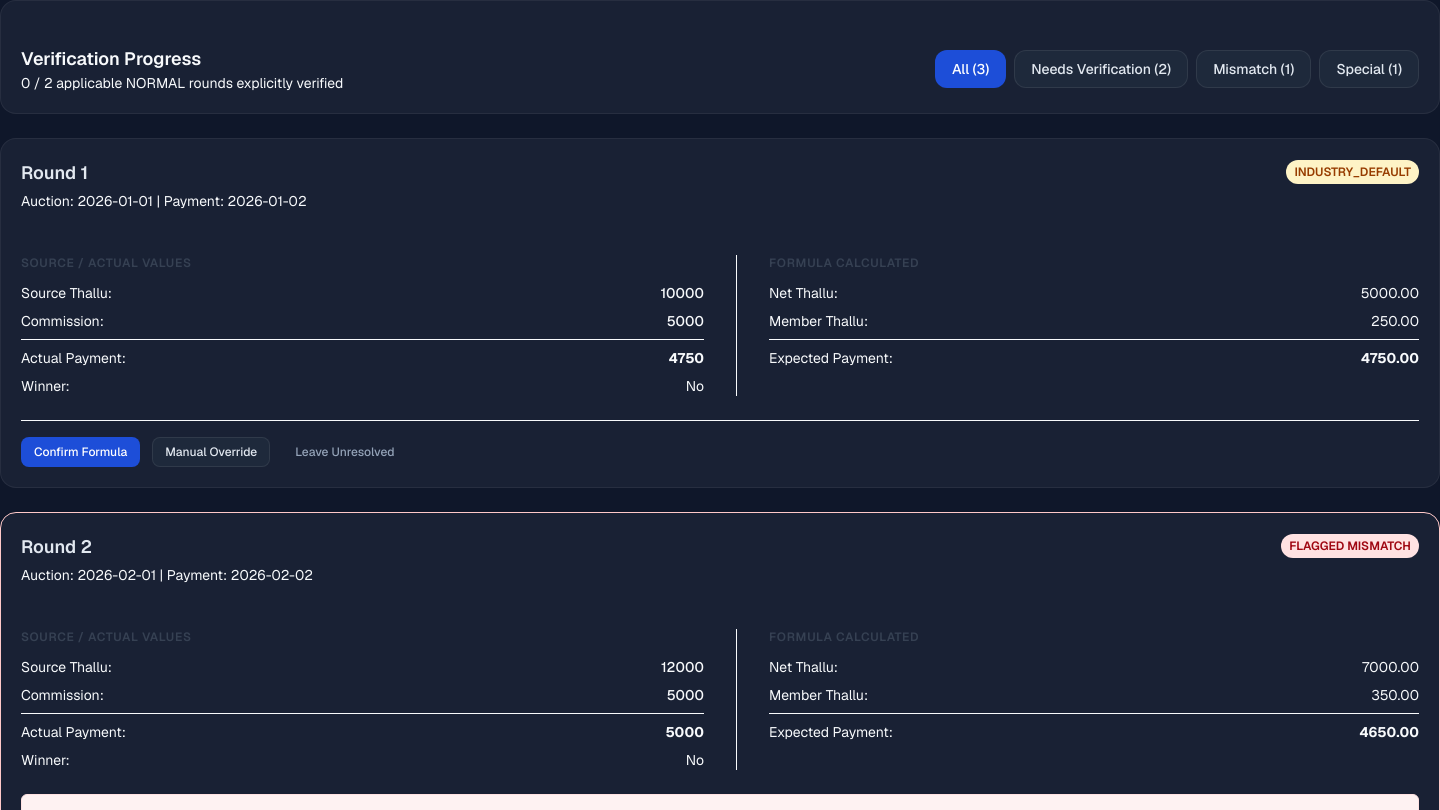
it: VerifyClient Component › Filters work correctly
// Mismatch Filter
Click the button "Mismatch (1)" at x=1254, y=69, box [1196,50,1312,88]
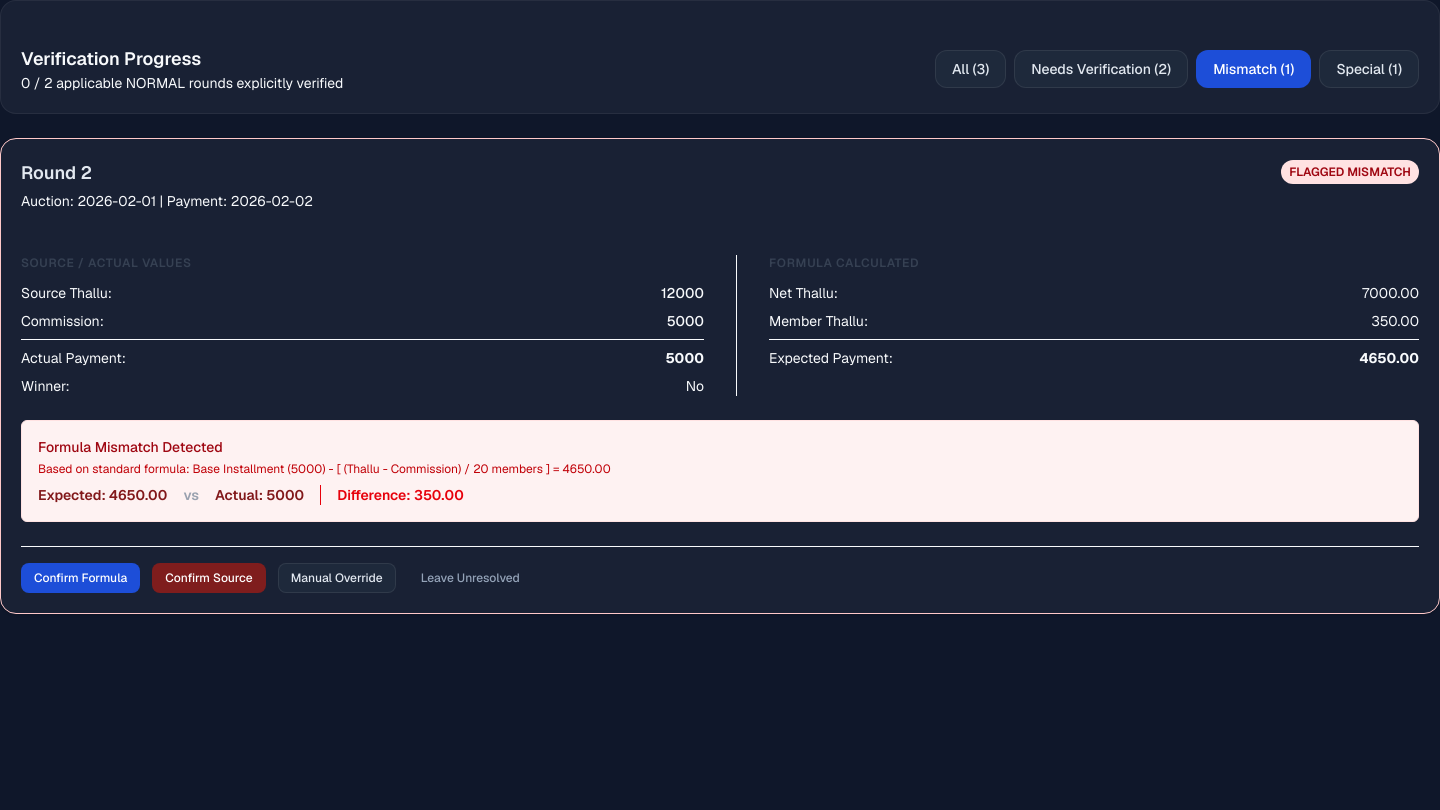
Now the number of headings "Round 2" is 1, box [21,161,92,184]
// Special Filter
Click the button "Special (1)" at x=1369, y=69, box [1319,50,1419,88]
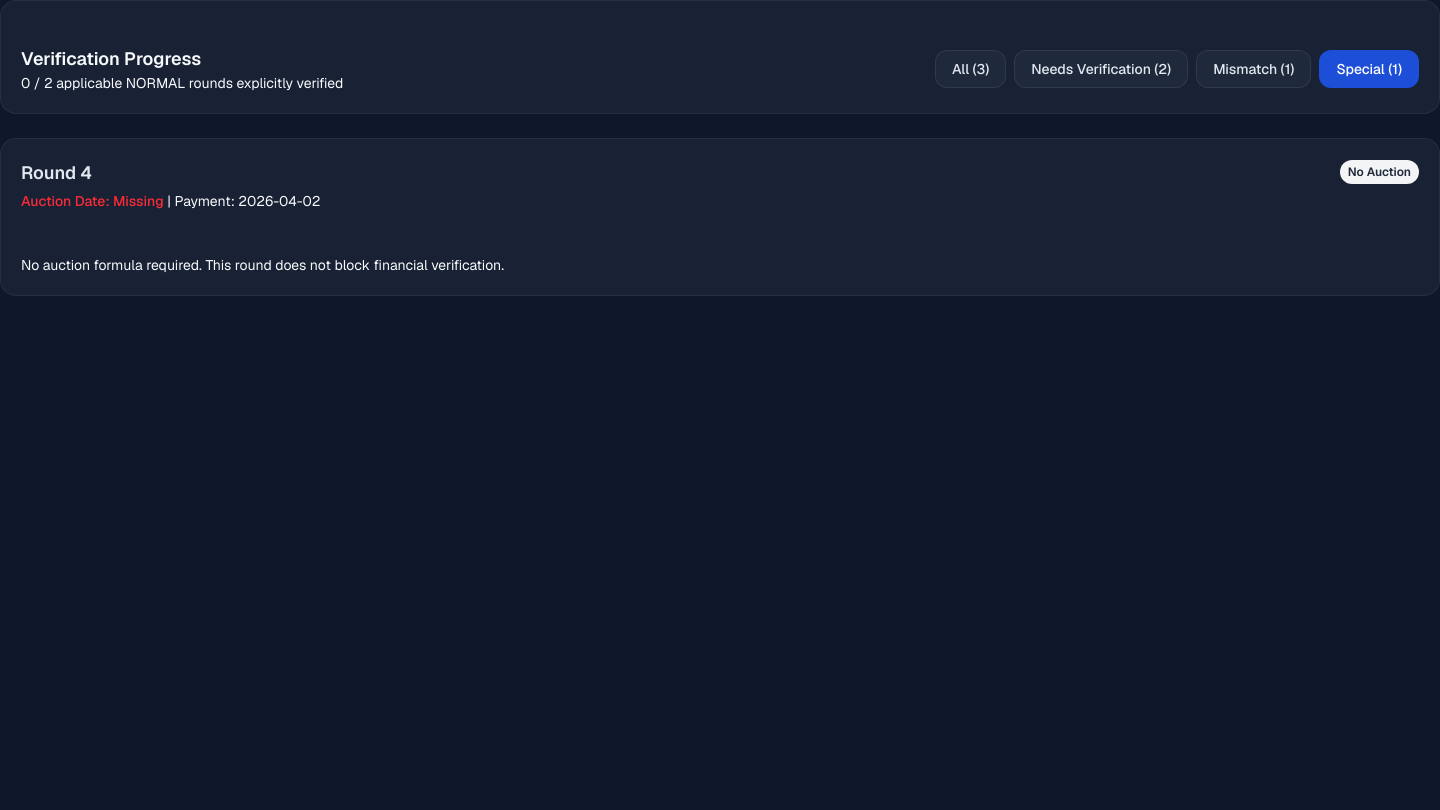
Now the number of headings "Round 4" is 1, box [21,161,92,184]
// Needs Verification Filter
Click the button "Needs Verification (2)" at x=1101, y=69, box [1014,50,1188,88]
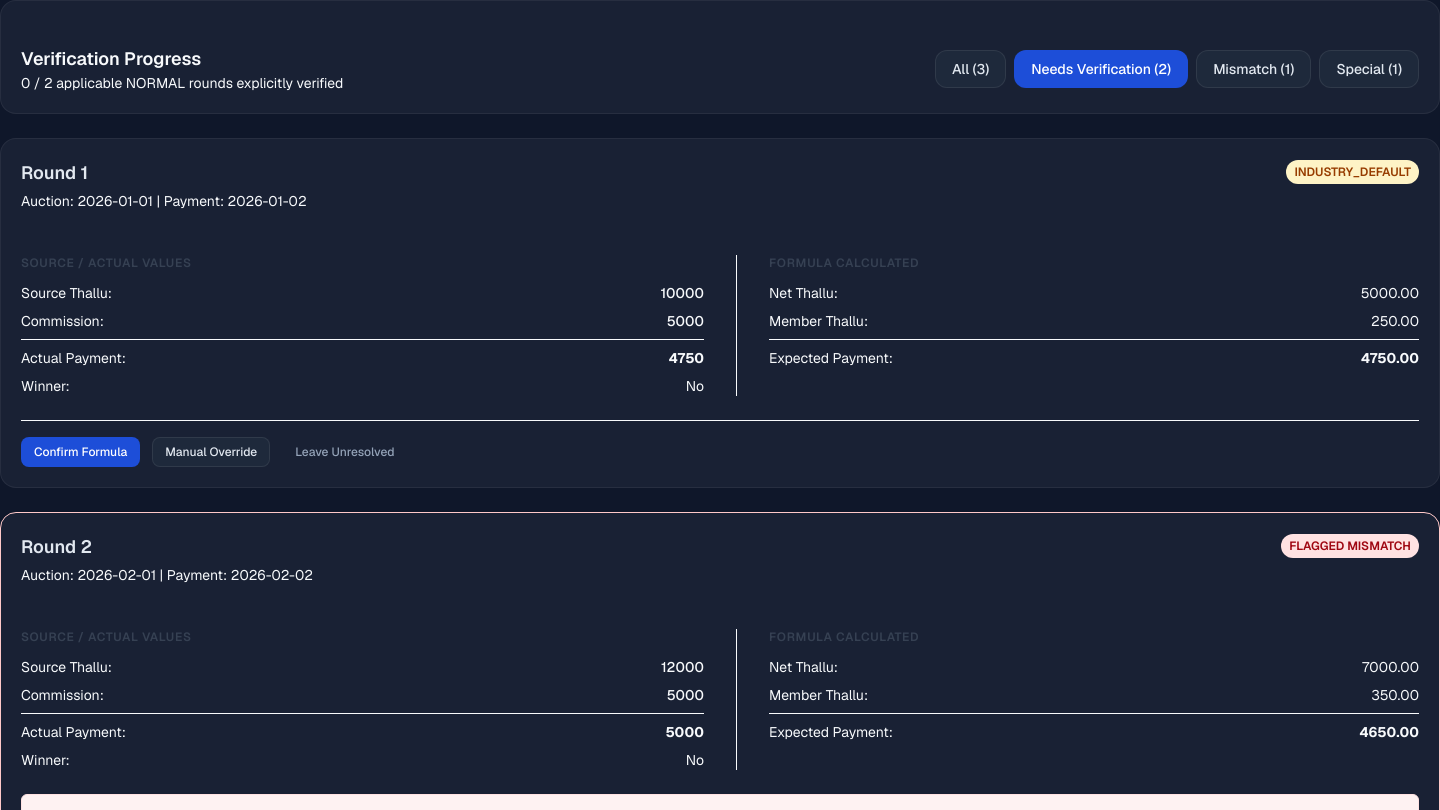
Now the number of headings "Round 1" is 2, box [21,161,88,184]; [21,535,92,558]
